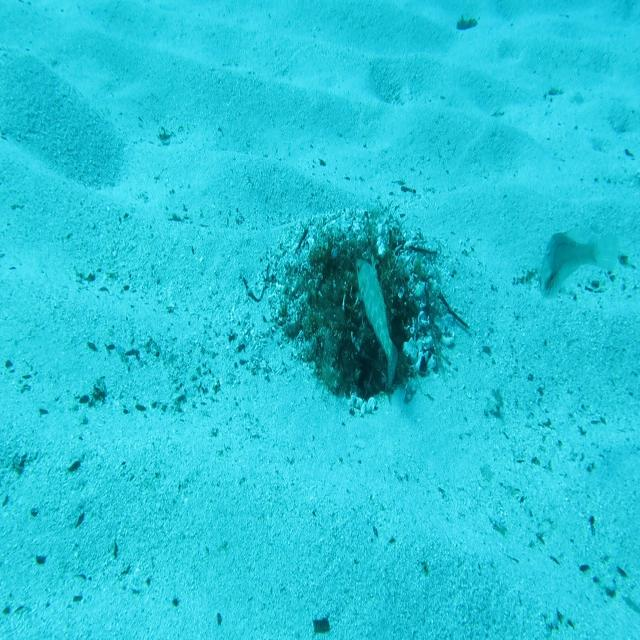FAN: (352, 252, 402, 394)
core_nest: (333, 252, 373, 282)
female: (534, 224, 620, 307)
nest: (263, 192, 460, 430)
vegetation: (457, 14, 477, 32), (313, 615, 330, 633)
